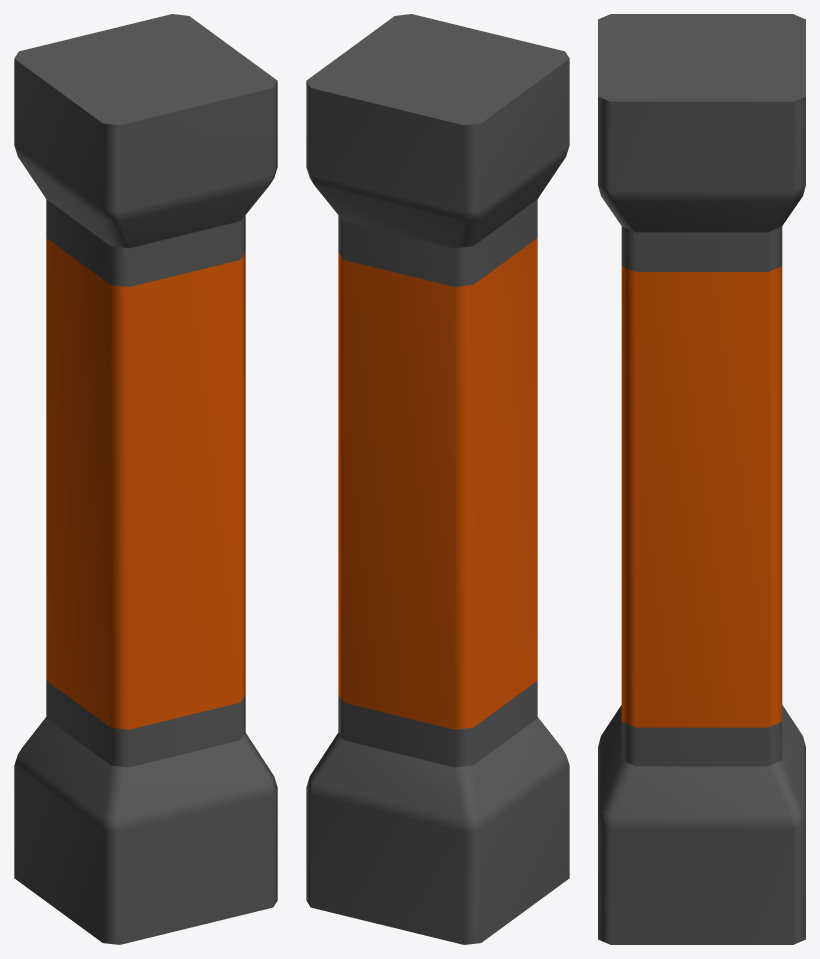
The model's file is env_ruin_pillar_11.fbx.
3 views of the same model, side by side, from view 1: azimuth 30°, elevation 25°; view 2: azimuth 150°, elevation 25°; view 3: azimuth 270°, elevation 25° (orthographic). The views are drawn at different scales.
Parts seen in each view (by area): view 1: Cube.001; view 2: Cube.001; view 3: Cube.001.
Part boxes in pixels (x1,y1,x2,y2): Cube.001: [14, 14, 277, 944]; Cube.001: [306, 14, 569, 944]; Cube.001: [598, 14, 805, 944].
Size of the model in its own units: 6.37 by 28.5 by 6.37.
